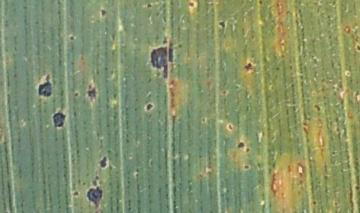tarspot: (151, 45, 169, 78), (38, 75, 53, 97), (87, 188, 101, 207), (87, 81, 97, 102), (53, 112, 66, 128), (168, 40, 175, 62), (97, 156, 108, 168), (236, 139, 245, 150), (90, 177, 99, 187), (245, 60, 252, 72), (145, 102, 154, 111), (313, 100, 321, 110), (218, 21, 227, 29), (71, 190, 81, 197), (145, 2, 153, 10), (241, 163, 250, 170), (221, 88, 228, 96), (227, 123, 234, 131), (101, 8, 107, 17), (200, 116, 207, 123), (68, 35, 76, 41), (162, 37, 168, 44), (188, 2, 195, 8), (74, 92, 80, 98), (81, 181, 87, 187), (312, 200, 318, 206), (356, 43, 360, 52), (95, 174, 100, 180), (258, 1, 264, 6), (355, 185, 360, 191), (245, 147, 250, 152)
